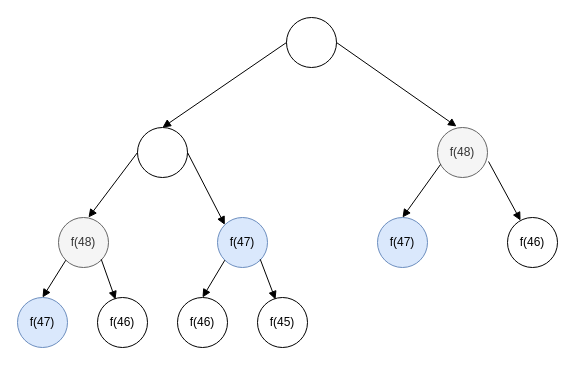
Image size: 575x365. Some labels were removed from this diagram. Here are the shapes that lost their labels. From the top down, the centre of each, then its label:
At point (311, 42): "f(50)".
At point (162, 152): "f(49)".
